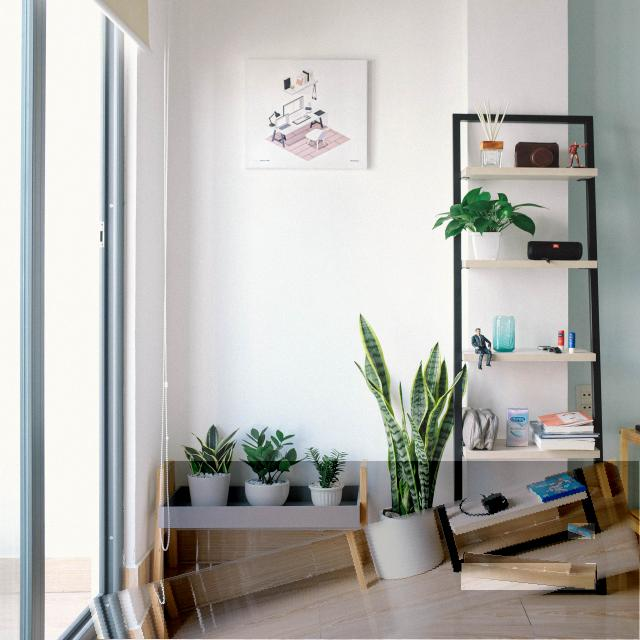floor: (164, 461, 640, 640), (462, 564, 596, 590), (568, 523, 595, 539)
